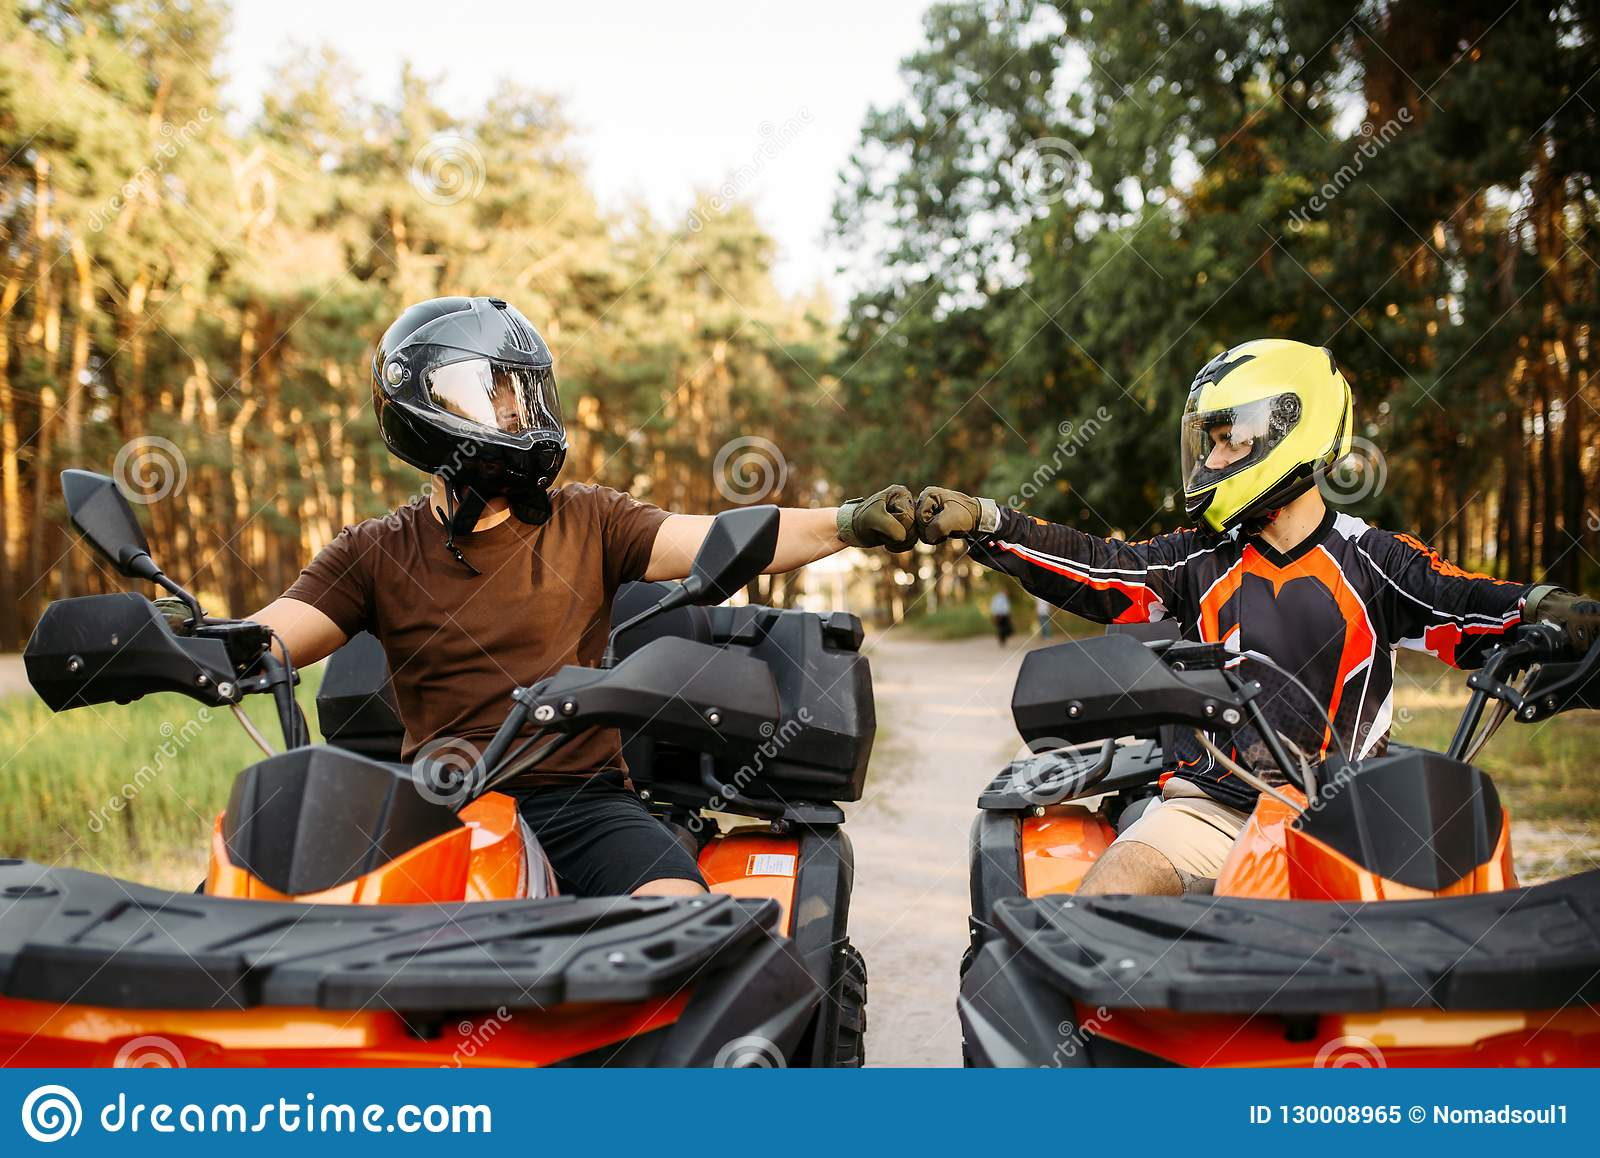helmet: (374, 288, 569, 495), (1178, 353, 1371, 519)
